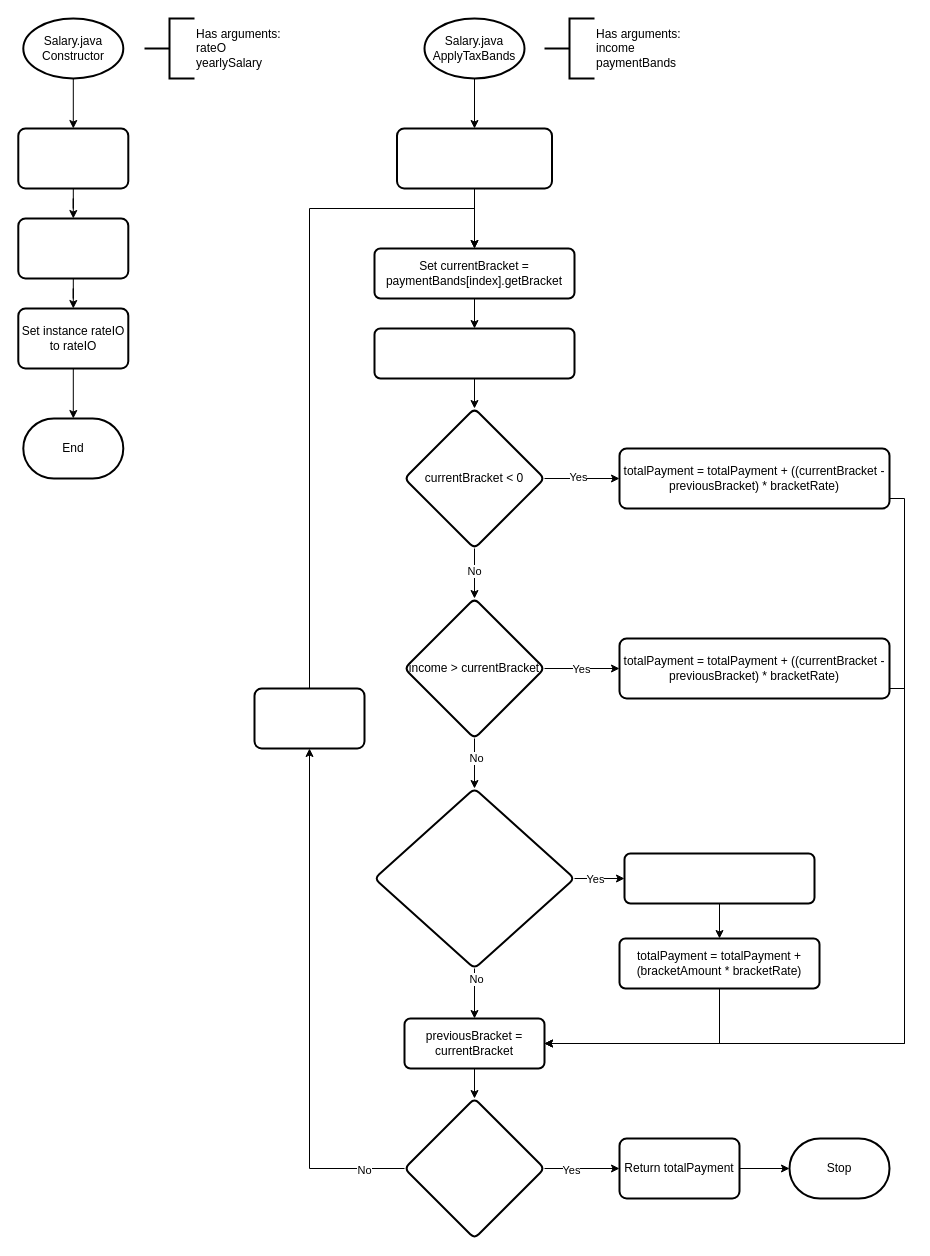
This 930x1256 diagram has some shape labels left out. Each missing label, with the box of its shape:
bracketAmount = income - previousBracket: (623, 852, 815, 904)
income > previousBracket and income < currentBracket: (373, 787, 575, 969)
index = index + 1: (253, 687, 365, 749)
index > bracketRate.length: (403, 1097, 545, 1239)
Set bracketRate = paymentBands[index].getRate: (373, 327, 575, 379)
Set instance netSalary to yearlySalary: (17, 217, 129, 279)
Set instance yearlySalary to yearlySalary: (17, 127, 129, 189)
Set totalPayment = 0 Set previousBracket = 0 Set index = 0: (396, 127, 552, 189)
